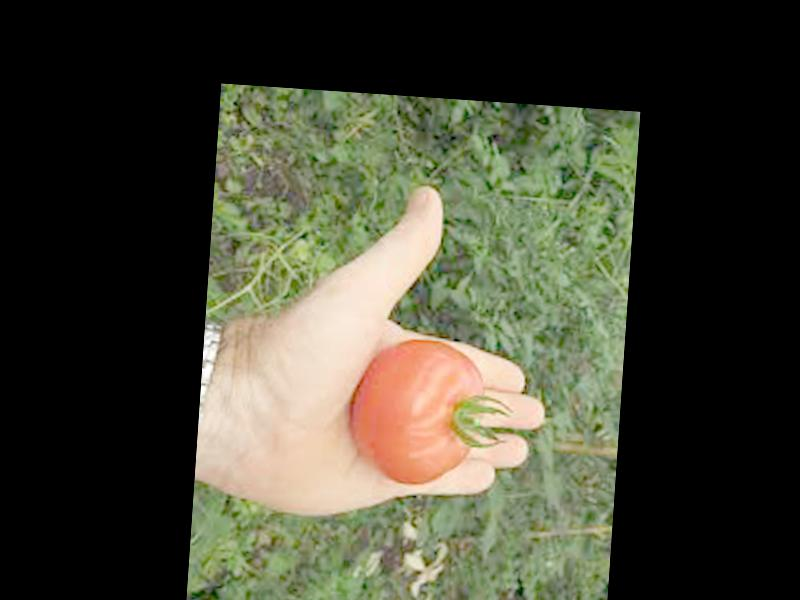Tomato: (348, 333, 485, 491)
